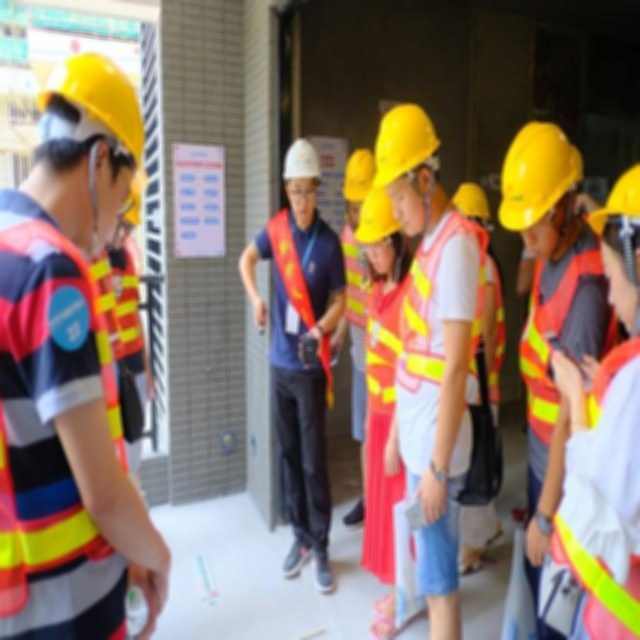Con_Chaleco: (520, 250, 609, 444), (398, 229, 479, 415)
Sin_Chaleco: (265, 210, 341, 375)
